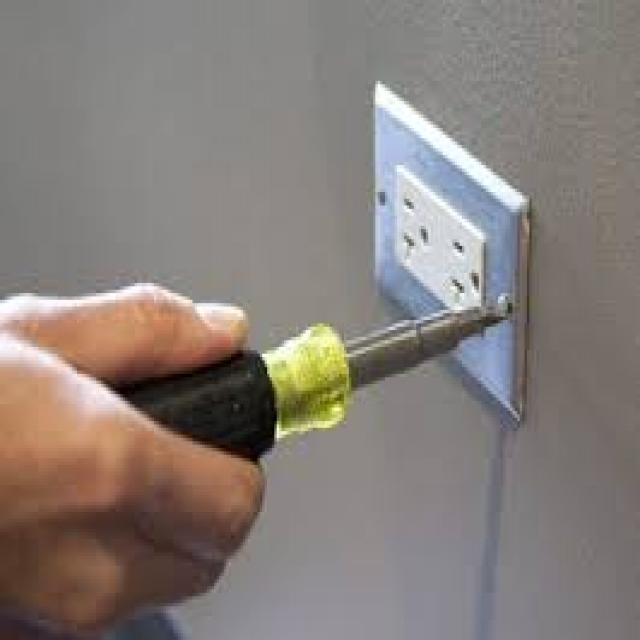screwdriver: (65, 294, 520, 486)
